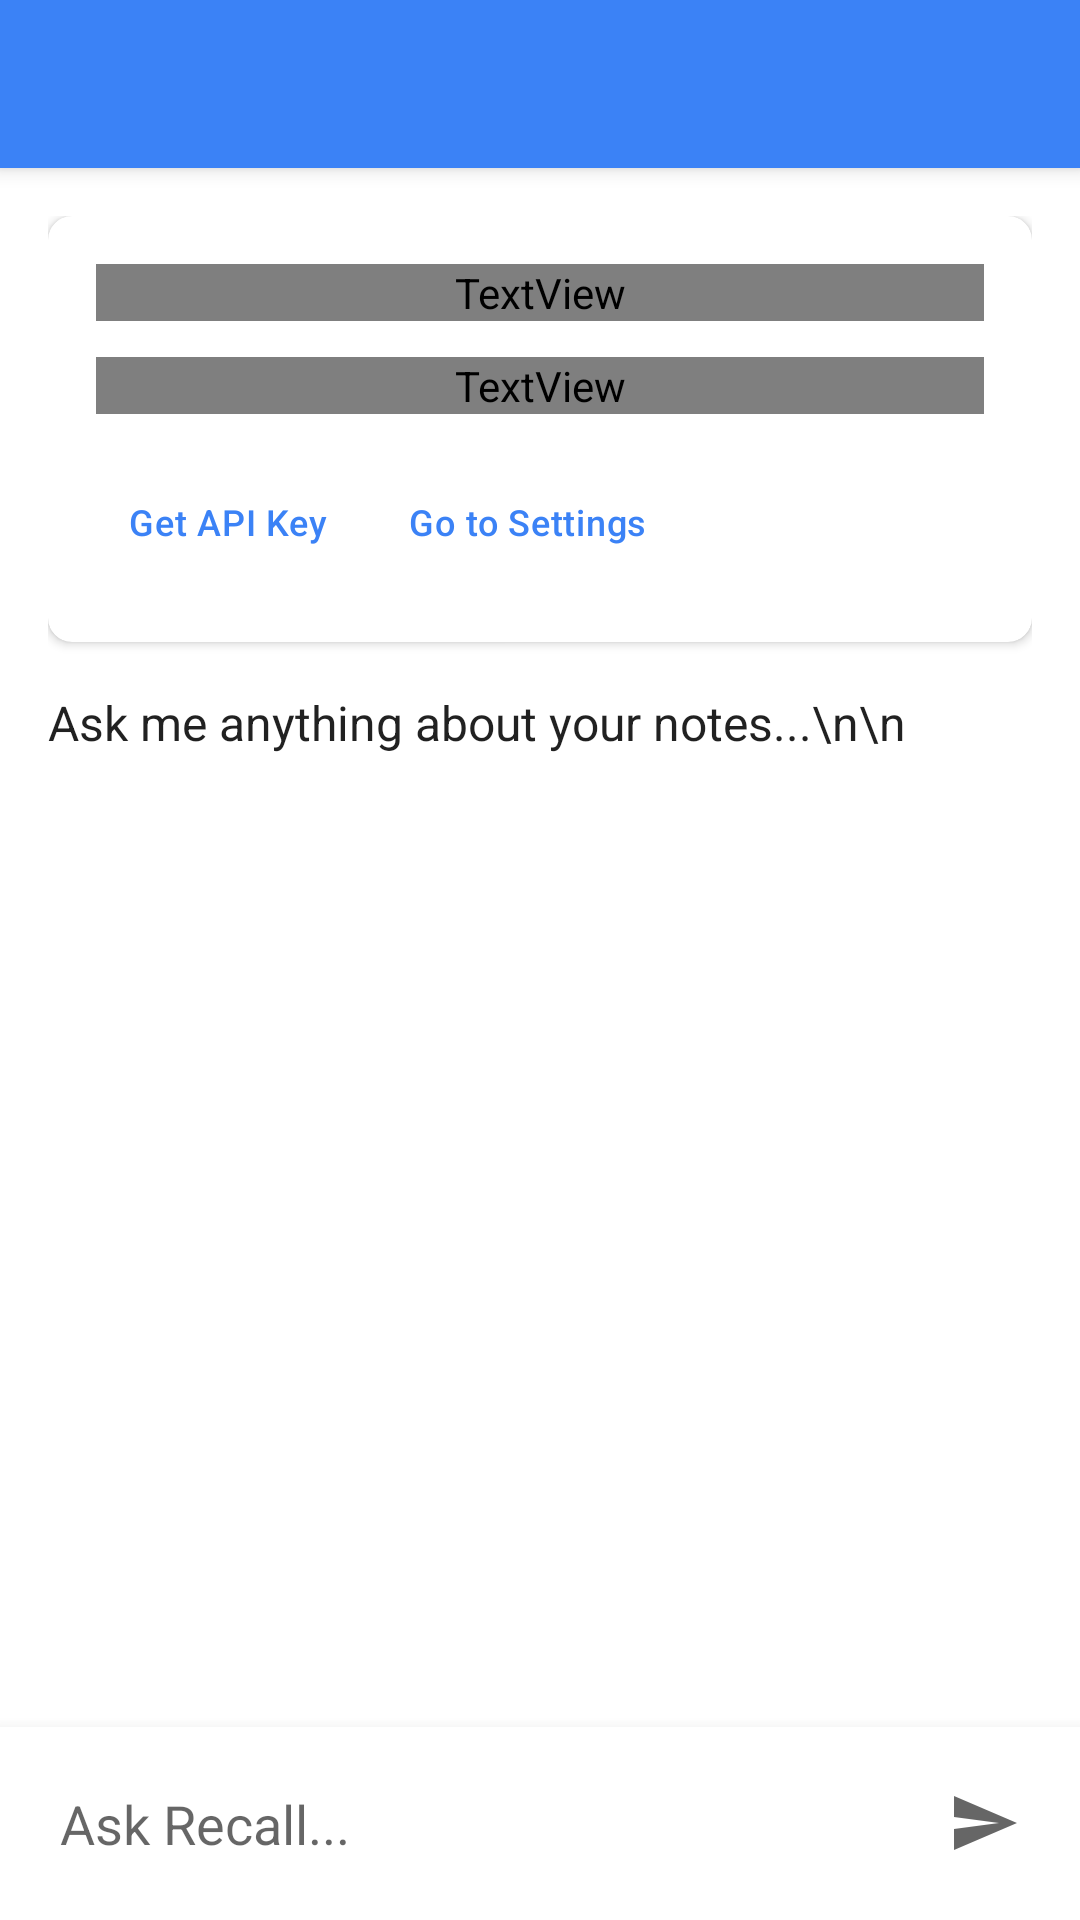

Named icons in this screenshot (1080x1920) and their centers, [x,y]:
Send: [985,1823]
